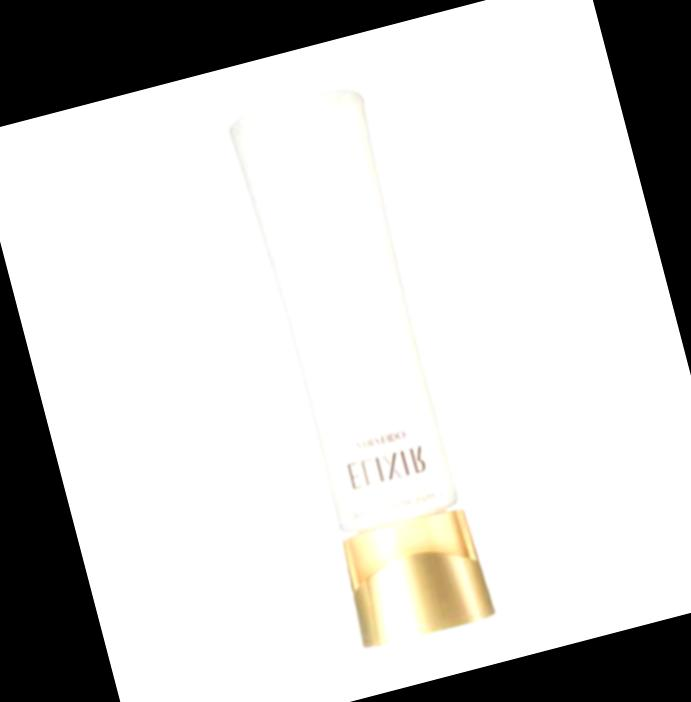cosmetic: (227, 83, 501, 651)
